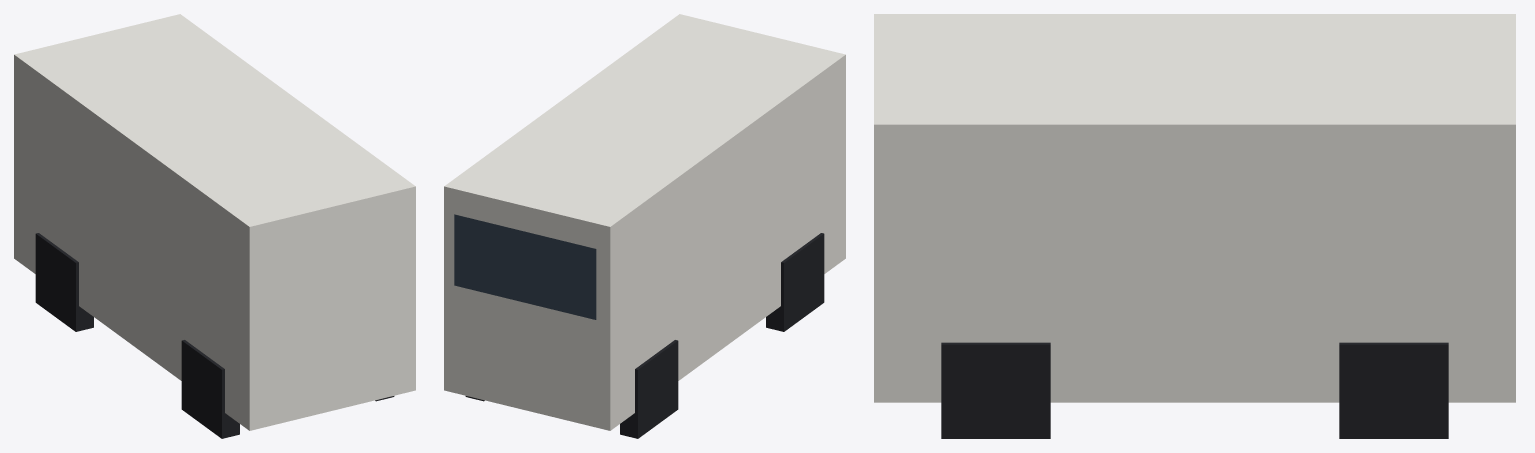
Rendered from V_VanWhite.fbx.
3 views of the same model, side by side, from view 1: azimuth 30°, elevation 25°; view 2: azimuth 150°, elevation 25°; view 3: azimuth 270°, elevation 25° (orthographic). The views are drawn at different scales.
Parts seen in each view (by area): view 1: V_VanWhite.002; view 2: V_VanWhite.002; view 3: V_VanWhite.002.
Boxes of the visible parts, left/top/right/bottom form: V_VanWhite.002: left=14, top=14, right=415, bottom=438; V_VanWhite.002: left=444, top=14, right=845, bottom=438; V_VanWhite.002: left=874, top=14, right=1515, bottom=438.
Bounding box in the file's own units: 1.14 × 1.45 × 2.72.
